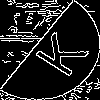K: (25, 25, 90, 79)
